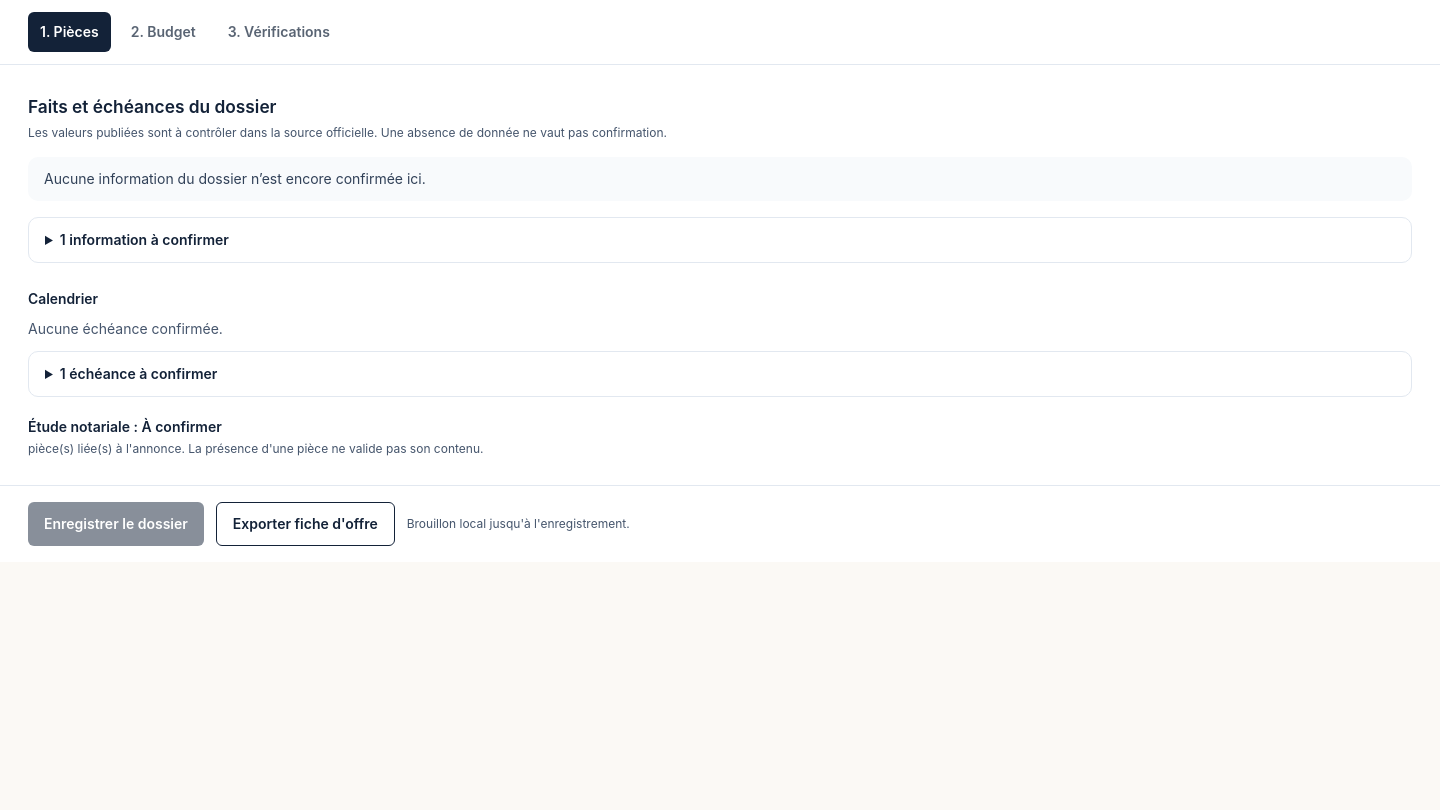
Test: professional pilot workspace › enchère plafond de « Mon dossier » (une seule porte) › garde le dossier du compte quand il existe : le plafond ne l'écrase pas
This screenshot has width=1440, height=810.
Click the button "2. Budget": [163, 32] box x1=119 y1=12 x2=208 y2=52
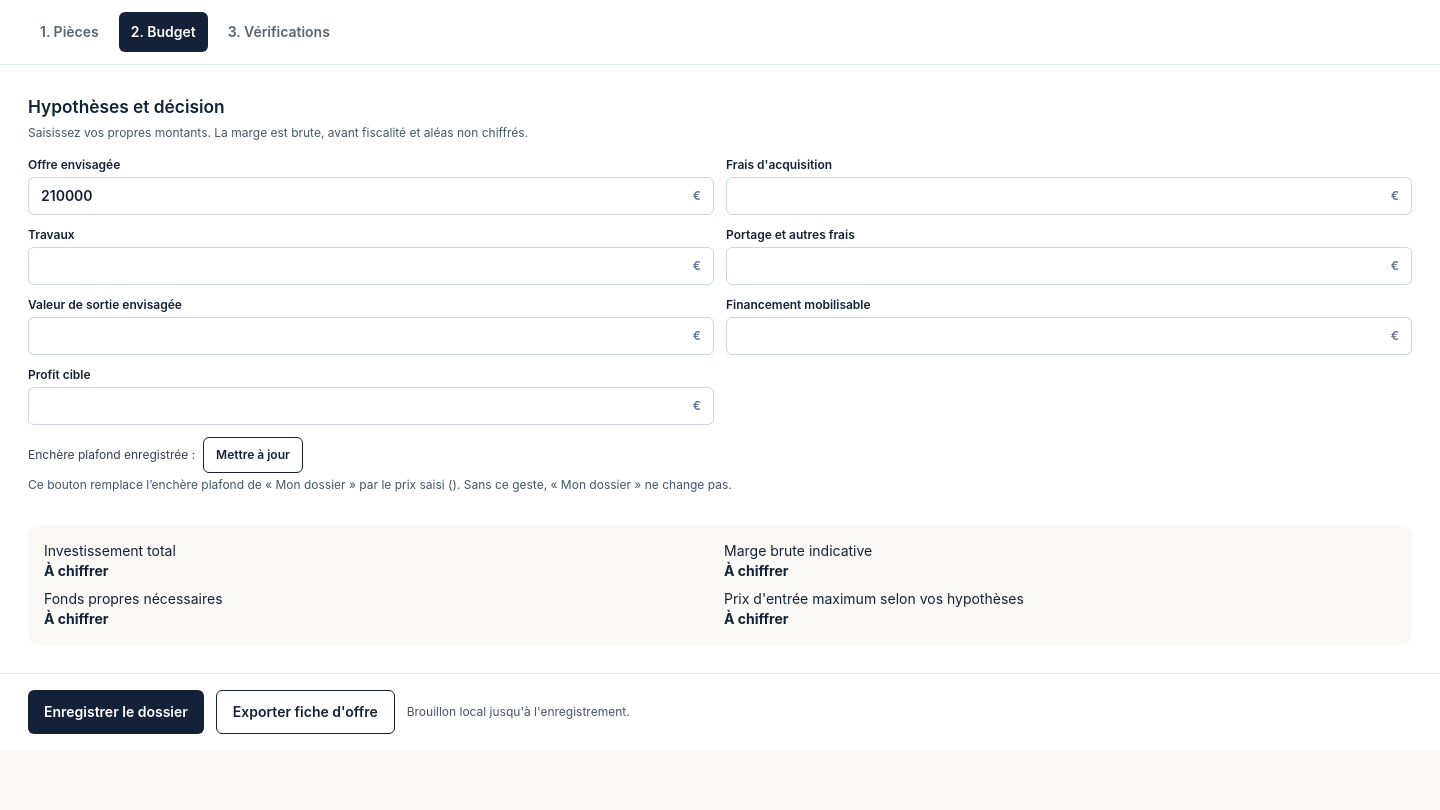
expect the number field labelled "Offre envisagée" holds "210000": met, box x1=29 y1=178 x2=693 y2=214
expect the button "Mettre à jour" is shown: met, box x1=203 y1=437 x2=303 y2=473
